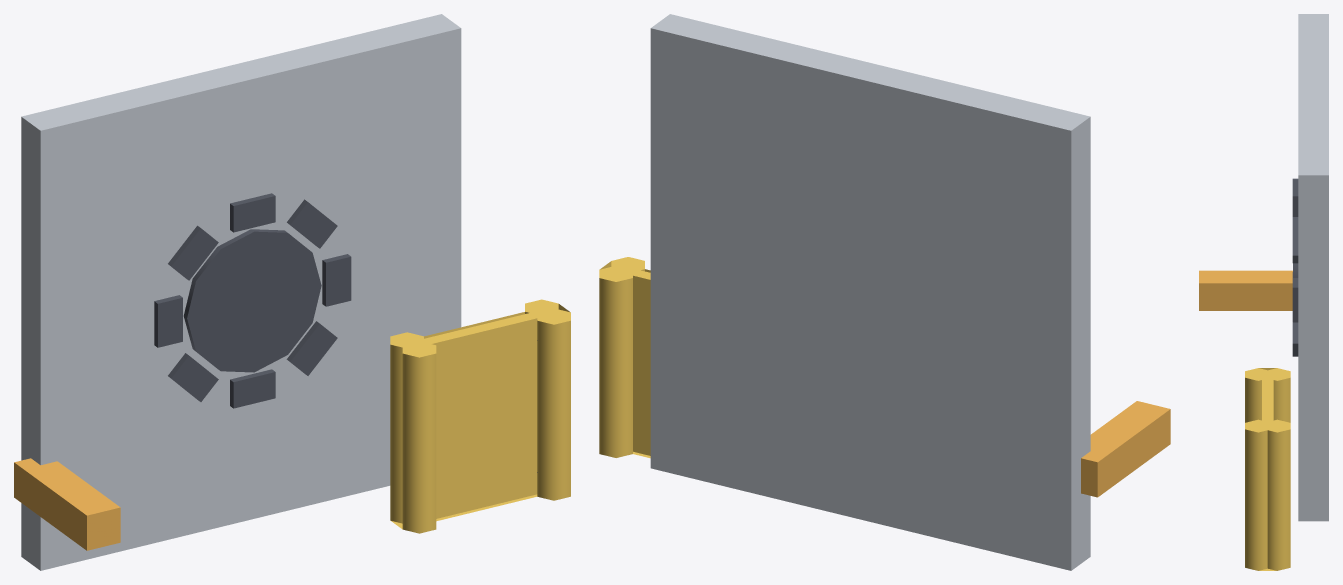
The model's file is prop_hull_patch.glb.
3 views of the same model, side by side, from view 1: azimuth 30°, elevation 25°; view 2: azimuth 150°, elevation 25°; view 3: azimuth 270°, elevation 25° (orthographic). The views are drawn at different scales.
Visible parts, largest first — view 1: prop_hull_patch, patch_plate, sealant_gun; view 2: prop_hull_patch, patch_plate, sealant_gun; view 3: prop_hull_patch, patch_plate, sealant_gun.
Part boxes in pixels (box(x1,y1,x2,y2)): prop_hull_patch: box(21, 14, 461, 570); patch_plate: box(390, 299, 570, 533); sealant_gun: box(14, 458, 120, 550); prop_hull_patch: box(650, 14, 1090, 570); patch_plate: box(599, 257, 650, 458); sealant_gun: box(1081, 401, 1170, 497); prop_hull_patch: box(1292, 14, 1328, 521); patch_plate: box(1245, 368, 1290, 570); sealant_gun: box(1199, 270, 1292, 310).
Size of the model in its own units: 1.24 by 1.05 by 0.34.
